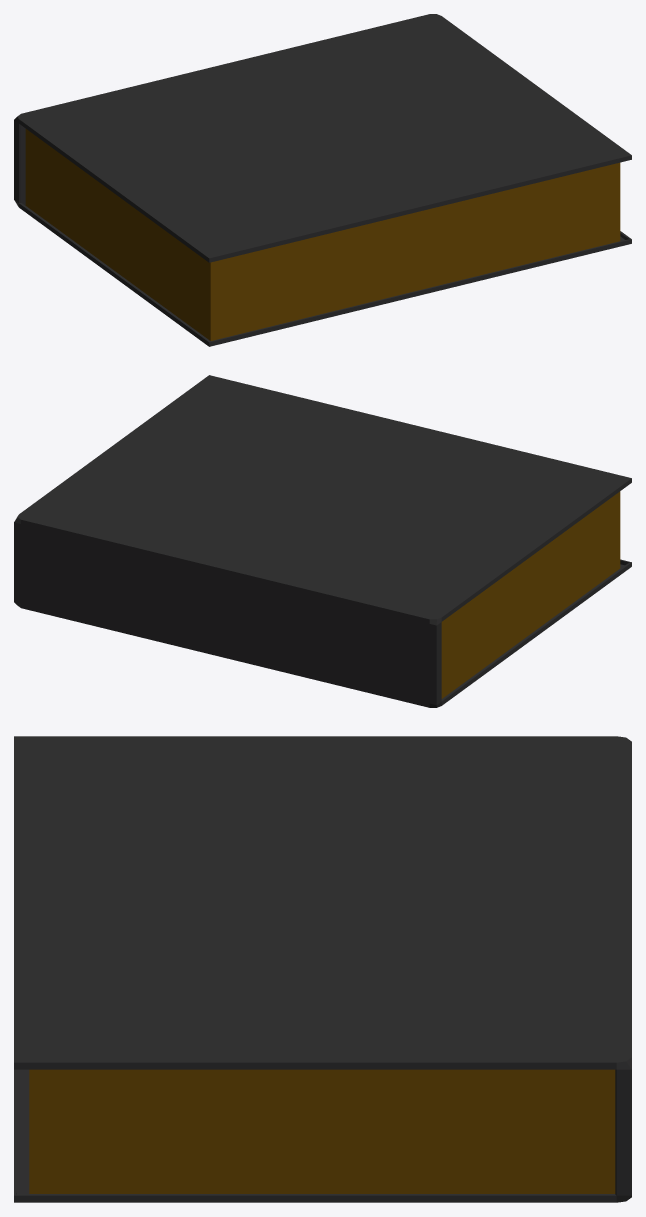
Rendered from _ook6.fbx.
3 views of the same model, one above another, from view 1: azimuth 30°, elevation 25°; view 2: azimuth 150°, elevation 25°; view 3: azimuth 270°, elevation 25° (orthographic). The views are drawn at different scales.
Visible parts, largest first — view 1: Cube; view 2: Cube; view 3: Cube.
Part boxes in pixels (left/top/right/bottom): Cube: left=14, top=14, right=631, bottom=346; Cube: left=14, top=375, right=631, bottom=707; Cube: left=14, top=736, right=631, bottom=1202.
Size of the model in its own units: 200 by 40 by 160.
